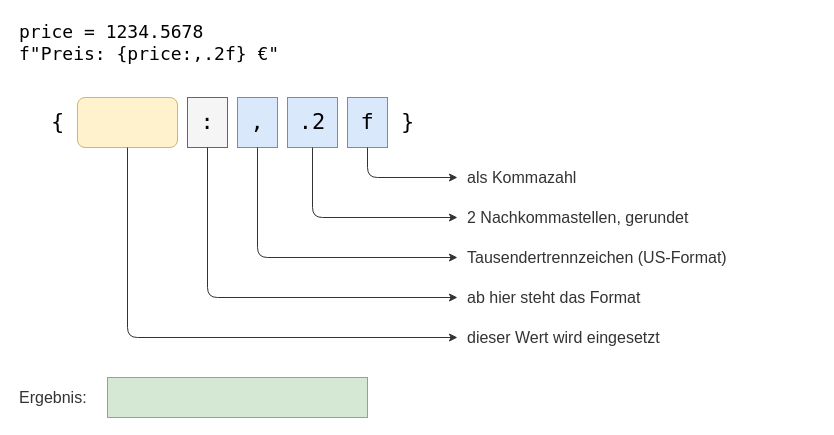
Image size: 834x435. Some labels were removed from this diagram. Here are the shapes that lost their labels. From the top down, the box of each, then its label:
(76, 96, 178, 148): price
(106, 376, 368, 418): Preis: 1,234.57 €
